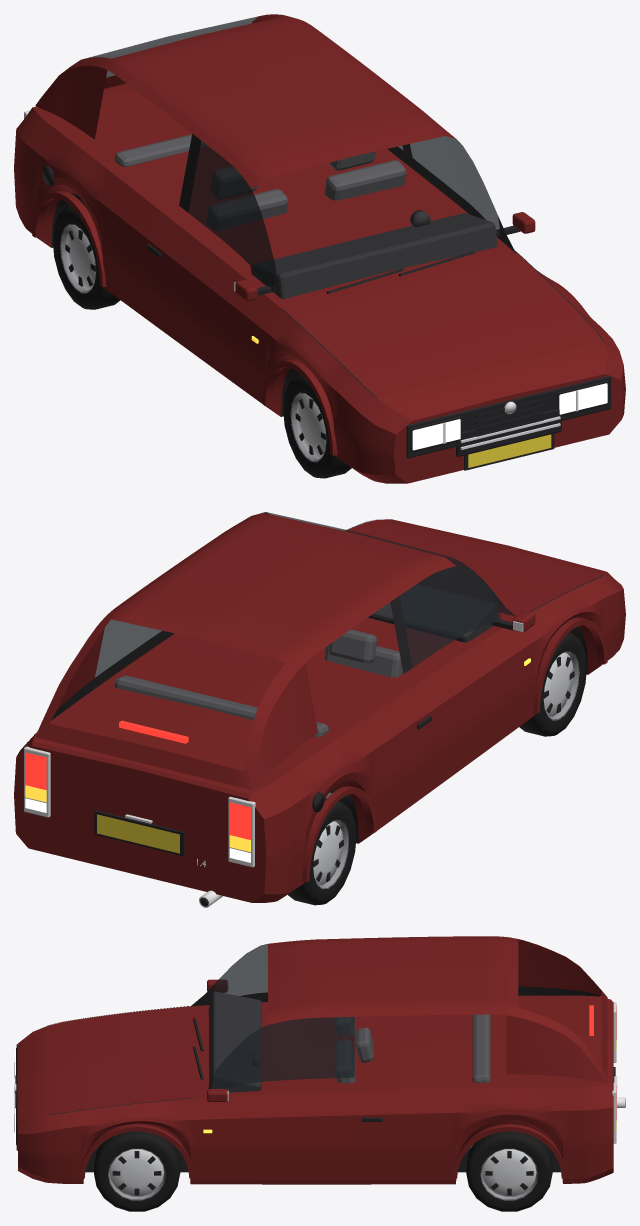
The model's file is tr_hatch.glb.
3 renders of one model, top to bottom at view 1: azimuth 30°, elevation 25°; view 2: azimuth 150°, elevation 25°; view 3: azimuth 270°, elevation 25°, orthographic. The views are drawn at different scales.
Parts seen in each view (by area): view 1: cabin_roof, hood, tub, door_R, nose, cabin_glass, dash, fender_R, quarter_R, wheel_FR, wheel_RR, grille (+14 smaller); view 2: cabin_roof, tail, tub, door_R, cabin_glass, hood, quarter_R, fender_R, dash, wheel_RR, wheel_FR, rear_back (+14 smaller); view 3: cabin_roof, door_L, tub, hood, cabin_glass, quarter_L, fender_L, wheel_RL, wheel_FL, dash, nose, tail (+6 smaller).
Part boxes in pixels (x1,y1,x2,y2): cabin_roof: (35,14,455,188); hood: (282,251,602,397); tub: (42,92,513,307); door_R: (97,175,280,403); nose: (359,342,625,483); cabin_glass: (84,16,500,291); dash: (250,213,497,298); fender_R: (262,309,376,480); quarter_R: (23,118,115,247); wheel_FR: (283,374,351,478); wheel_RR: (52,202,120,309); grille: (406,375,611,458); cabin_roof: (35,513,455,789); tail: (14,731,290,902); tub: (49,616,512,783); door_R: (349,628,533,843); cabin_glass: (95,512,515,677); hood: (346,520,601,619); quarter_R: (272,730,367,901); fender_R: (524,575,621,717); dash: (368,584,496,642); wheel_RR: (288,798,356,905); wheel_FR: (519,632,586,736); rear_back: (114,675,328,736); cabin_roof: (268,936,607,1082); door_L: (196,1088,464,1184); tub: (196,995,586,1097); hood: (47,1006,196,1114); cabin_glass: (214,944,354,1088); quarter_L: (464,1086,586,1183); fender_L: (47,1098,196,1184); wheel_RL: (466,1131,552,1211); wheel_FL: (94,1131,180,1211); dash: (208,991,261,1092); nose: (18,1026,47,1182); tail: (587,996,613,1182).
Bounding box in the file's own units: 1.81 × 1.44 × 4.11.
